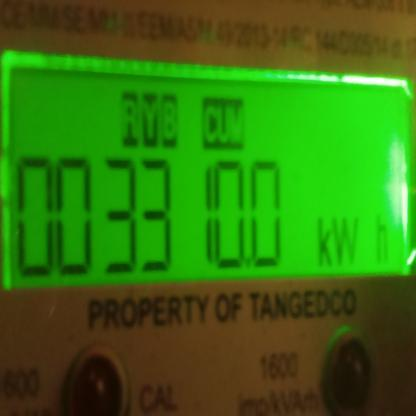.: (309, 213, 398, 271)
0: (242, 255, 257, 272)
1: (10, 153, 57, 280), (50, 156, 93, 276), (247, 156, 285, 267), (211, 156, 241, 269)
2: (198, 159, 216, 264)
4: (99, 154, 135, 277), (138, 157, 177, 270)
